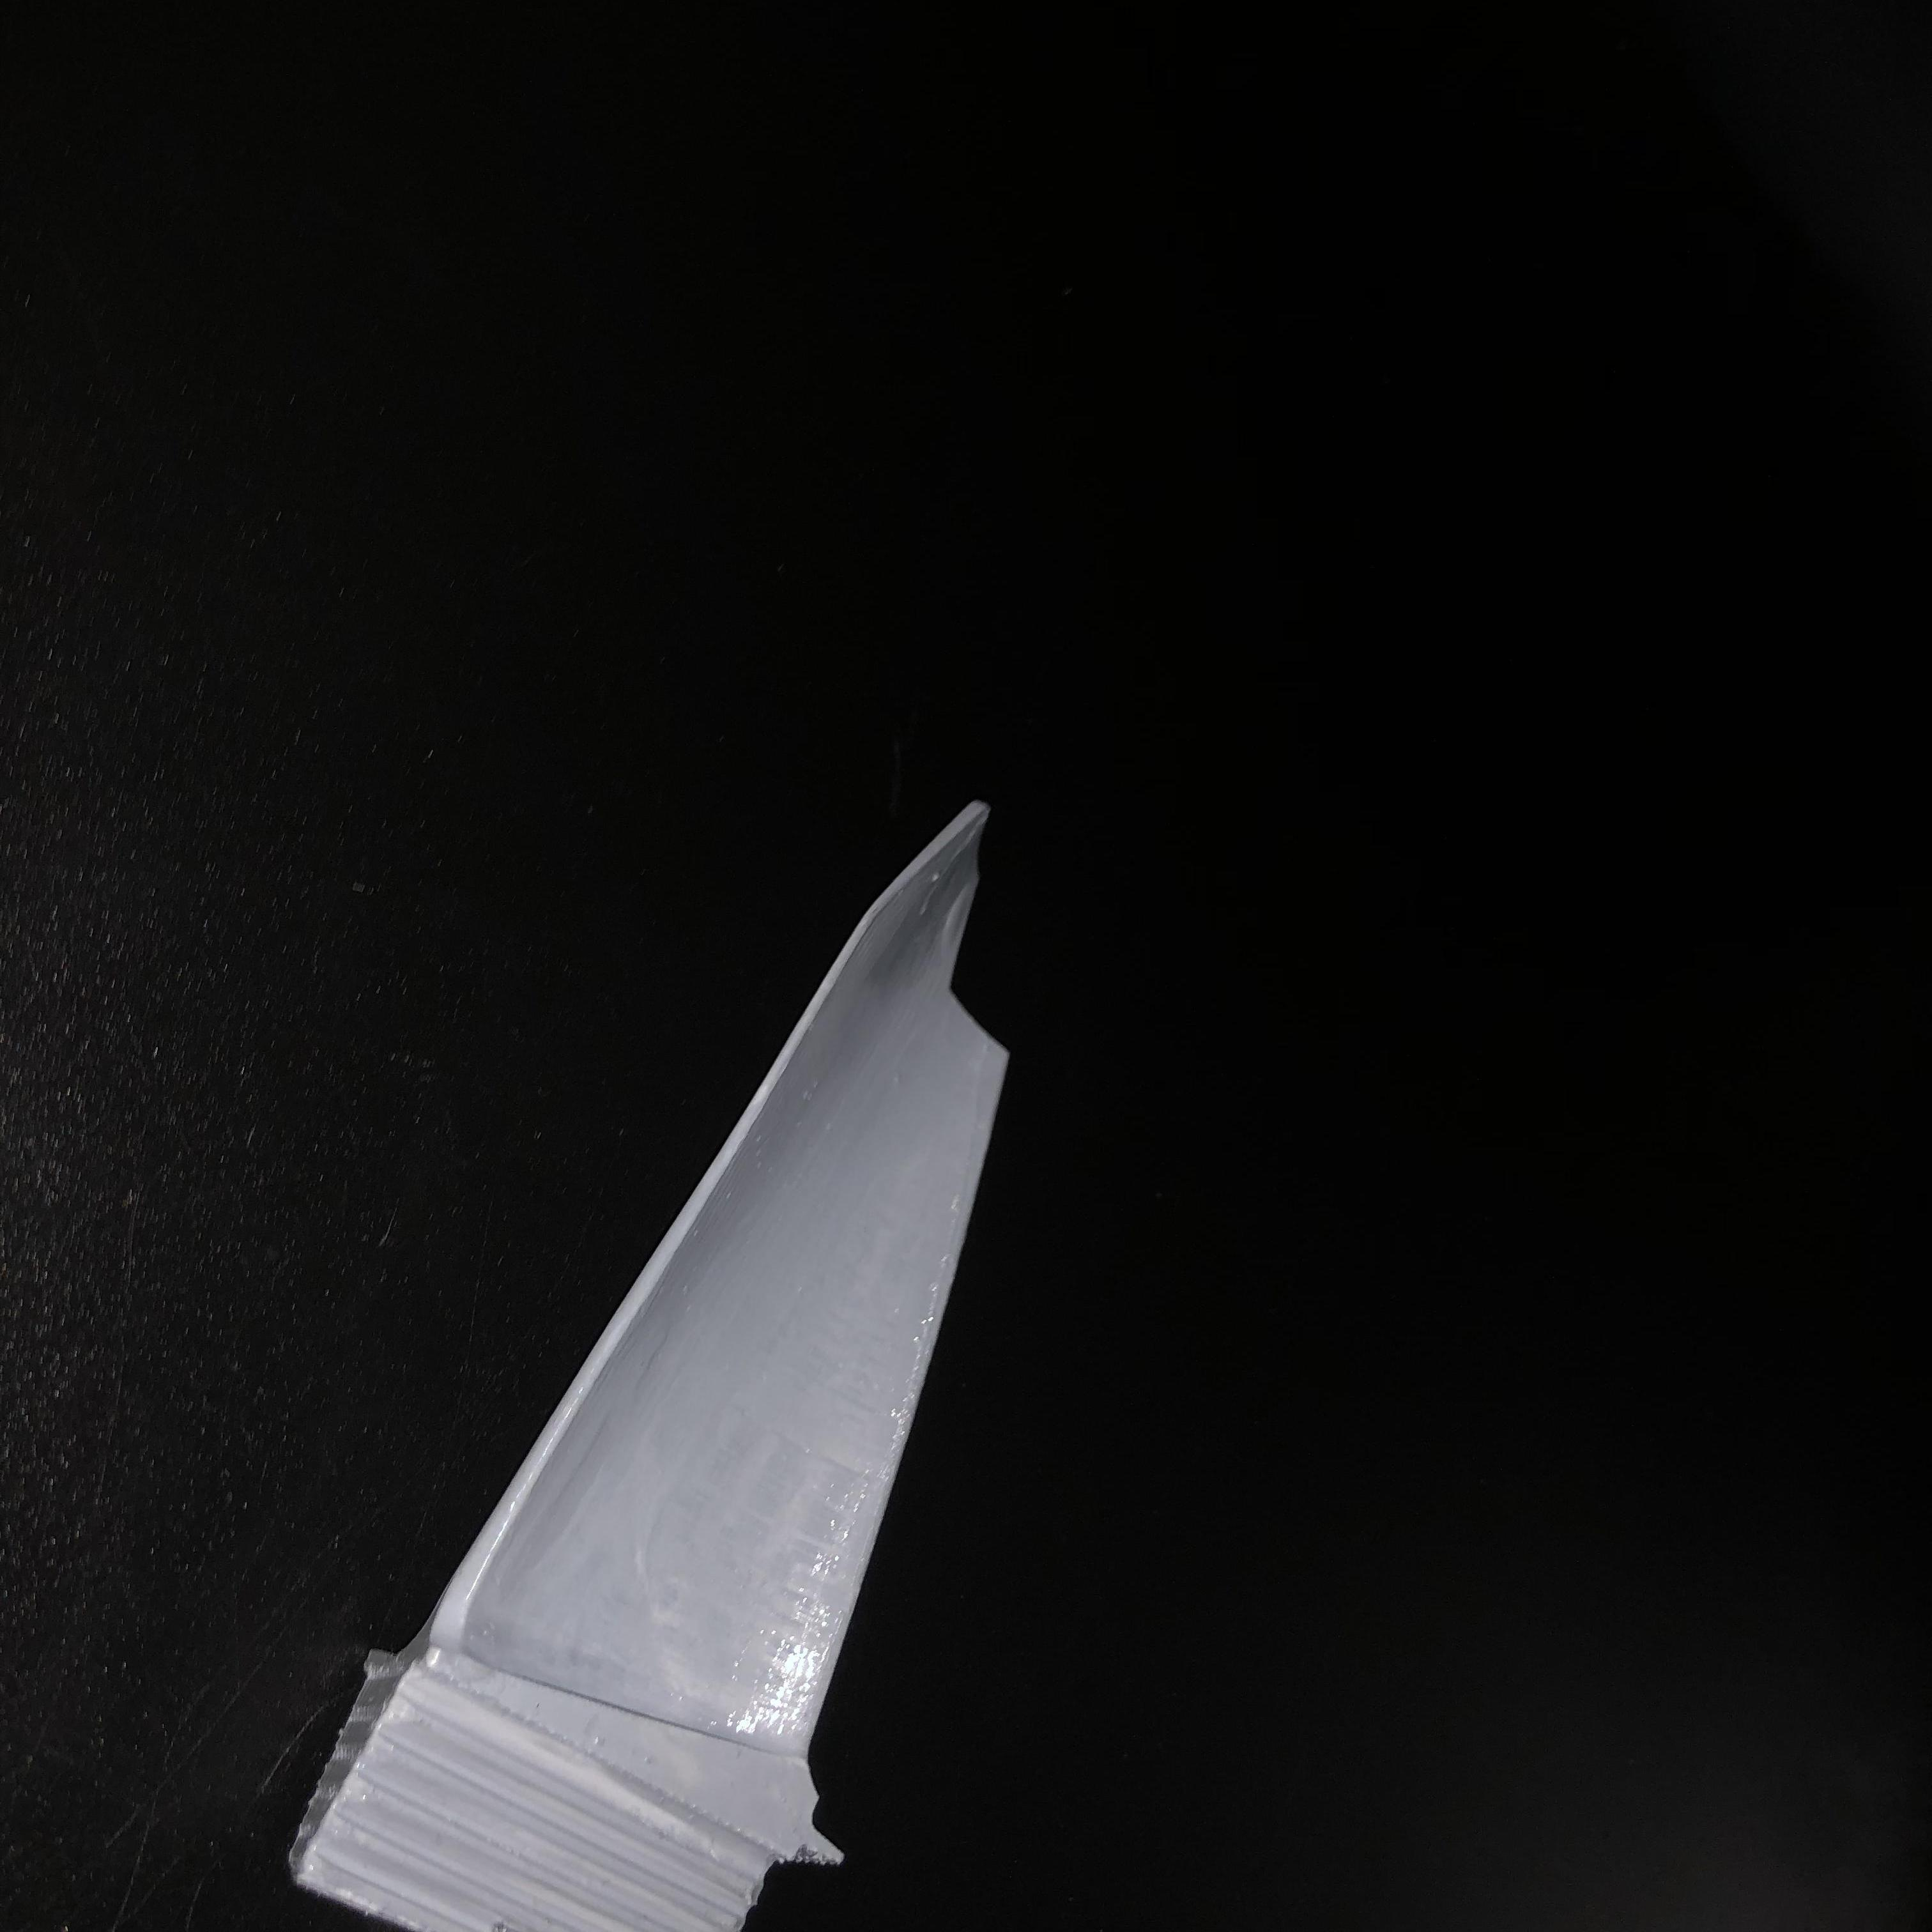fracture: (943, 840, 1049, 1060)
